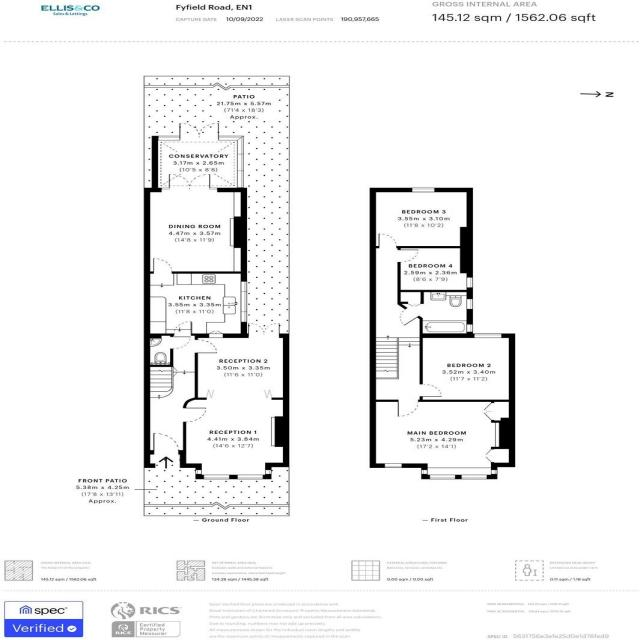DOOR: (152, 432, 180, 455), (396, 399, 419, 417), (182, 407, 207, 423), (399, 307, 419, 326), (194, 339, 218, 354), (152, 257, 173, 274), (419, 383, 442, 397), (397, 249, 419, 263), (173, 321, 193, 336), (378, 233, 397, 248), (170, 336, 191, 349)
DOUBLE DOOR: (167, 172, 212, 190)
ROOM: (182, 322, 290, 480), (369, 399, 516, 480), (143, 174, 247, 274), (143, 258, 247, 338), (419, 333, 516, 402), (369, 187, 474, 248), (397, 246, 473, 292)
WINDOW: (240, 281, 248, 322), (203, 474, 230, 480), (237, 474, 264, 480), (461, 474, 487, 480), (474, 333, 502, 338), (429, 475, 456, 480), (411, 187, 435, 192), (383, 463, 403, 468), (466, 298, 473, 310), (466, 277, 473, 288), (466, 324, 473, 332), (265, 469, 272, 475), (421, 470, 428, 474), (195, 470, 202, 474), (491, 470, 497, 474)
